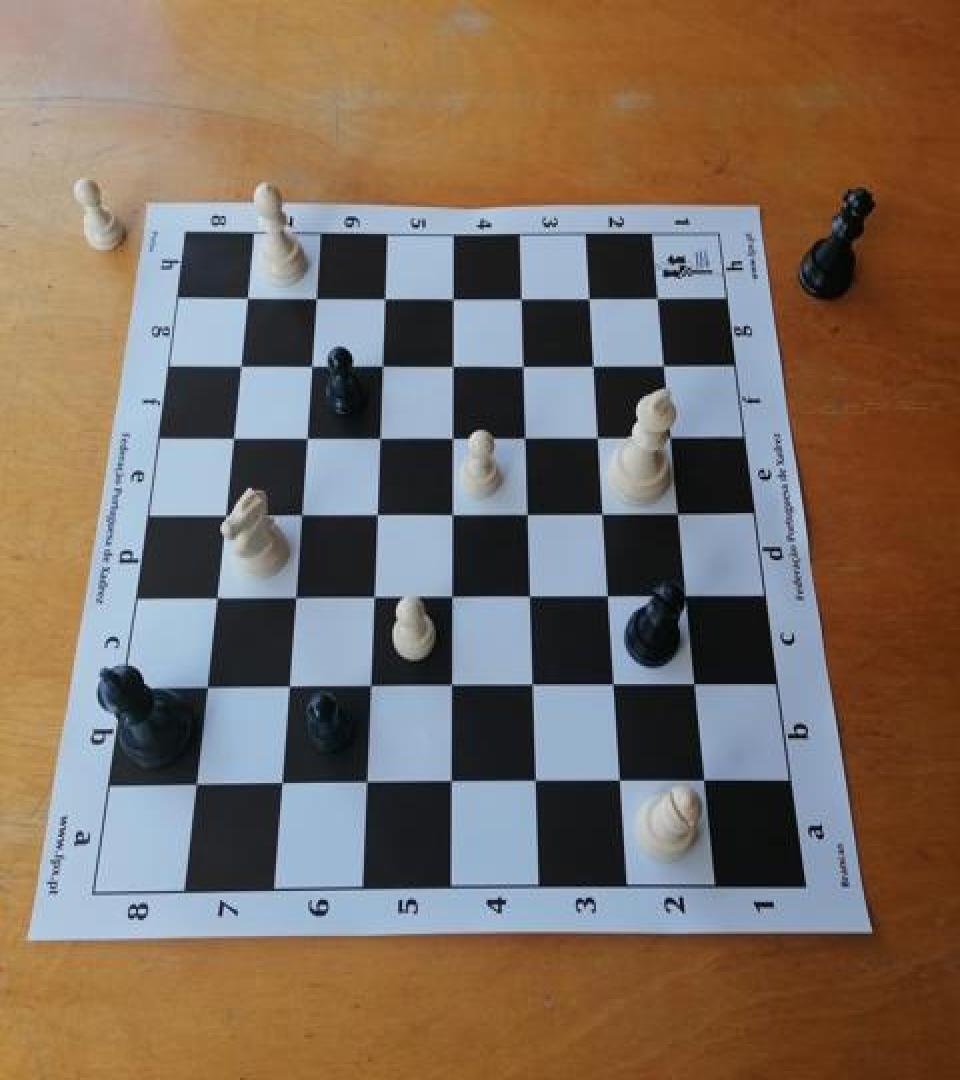xcorner: (177, 767, 207, 801), (263, 766, 293, 800), (349, 766, 379, 800), (435, 766, 465, 800), (521, 765, 551, 799), (606, 765, 636, 799), (691, 765, 721, 799), (188, 669, 218, 703), (271, 669, 301, 703), (353, 668, 383, 702), (436, 668, 466, 702), (518, 668, 548, 702), (600, 668, 630, 702), (682, 668, 712, 702), (198, 579, 228, 613), (277, 578, 307, 612), (357, 578, 387, 612), (436, 578, 466, 612), (515, 578, 545, 612), (594, 578, 624, 612), (673, 578, 703, 612), (207, 495, 237, 529), (284, 495, 314, 529), (360, 495, 390, 529), (437, 495, 467, 529), (513, 495, 543, 529), (589, 495, 619, 529), (665, 495, 695, 529), (215, 417, 245, 451), (290, 417, 320, 451), (363, 417, 393, 451), (437, 417, 467, 451), (511, 417, 541, 451), (584, 417, 614, 451), (657, 417, 687, 451), (223, 345, 253, 379), (295, 345, 325, 379), (366, 345, 396, 379), (438, 345, 468, 379), (509, 345, 539, 379), (579, 345, 609, 379), (650, 345, 680, 379), (231, 278, 261, 312), (300, 278, 330, 312), (369, 278, 399, 312), (438, 278, 468, 312), (507, 278, 537, 312), (575, 279, 605, 313), (644, 279, 674, 313)
